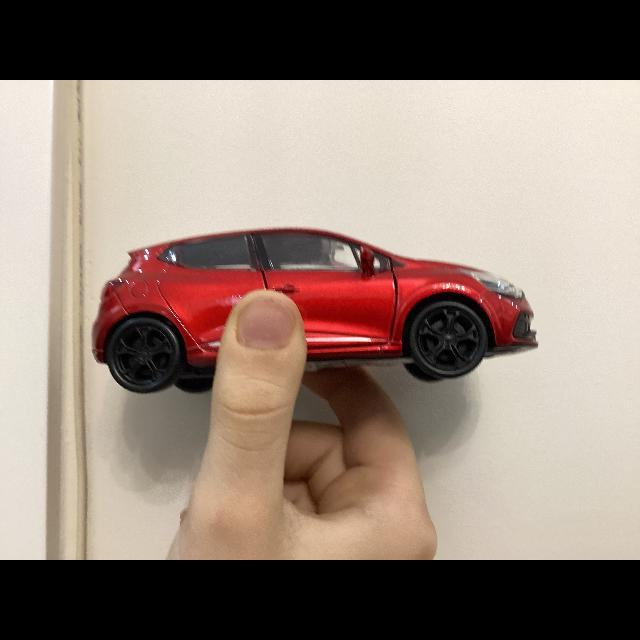Dogru_Jant: (417, 308, 477, 369), (116, 324, 172, 384)
